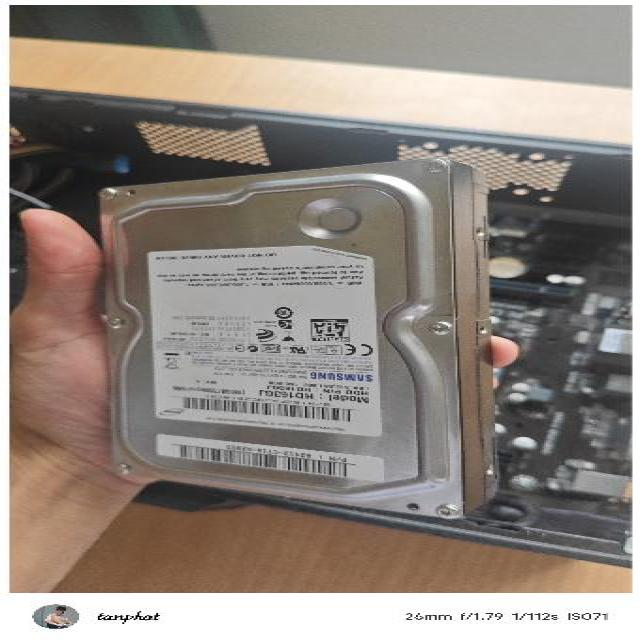DISK: (72, 152, 500, 528)
